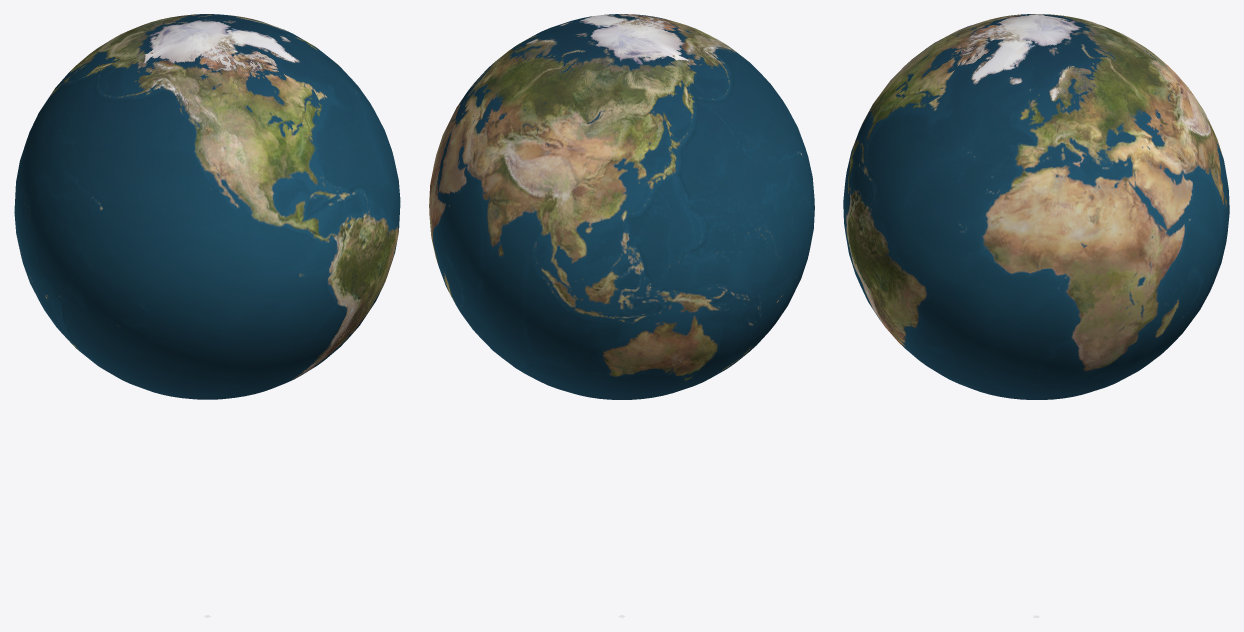
The model's file is earth.glb.
3 views of the same model, side by side, from view 1: azimuth 30°, elevation 25°; view 2: azimuth 150°, elevation 25°; view 3: azimuth 270°, elevation 25° (orthographic).
Visible parts, largest first — view 1: Sphere; view 2: Sphere; view 3: Sphere.
Boxes of the visible parts, bbox=[...] form: Sphere: bbox=[14, 14, 400, 399]; Sphere: bbox=[429, 14, 814, 399]; Sphere: bbox=[843, 14, 1229, 399].
Size of the model in its own units: 200 by 334 by 200.
Materials: 2 (1 with a texture image).
